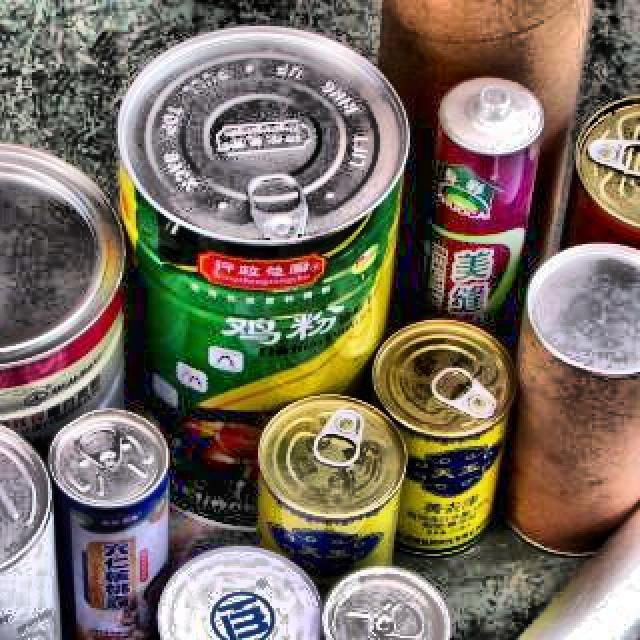metal: (110, 4, 422, 408), (0, 116, 146, 436), (370, 470, 640, 640), (354, 312, 506, 548), (250, 382, 416, 594), (426, 62, 550, 338), (38, 392, 174, 640), (566, 68, 640, 434), (508, 236, 640, 392), (0, 408, 84, 640), (138, 540, 320, 640), (308, 558, 468, 640)
